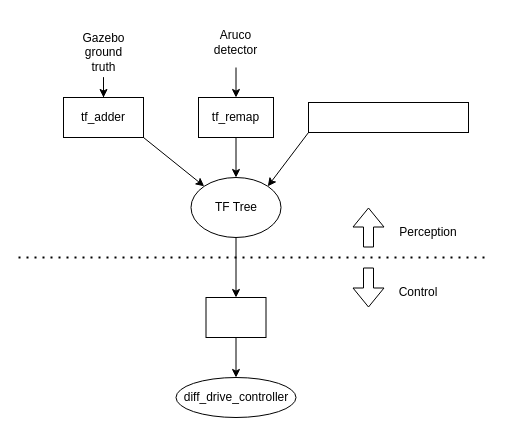
The diagram is 507 pixels wide and 435 high, and some of its shapes have lost their labels. The shapes that lost their labels are listed below. From the top down, each one's centre as x and y in pixels, then its label:
At [388,117]: "static_transform_publisher".
At [235,317]: "PBVS".
